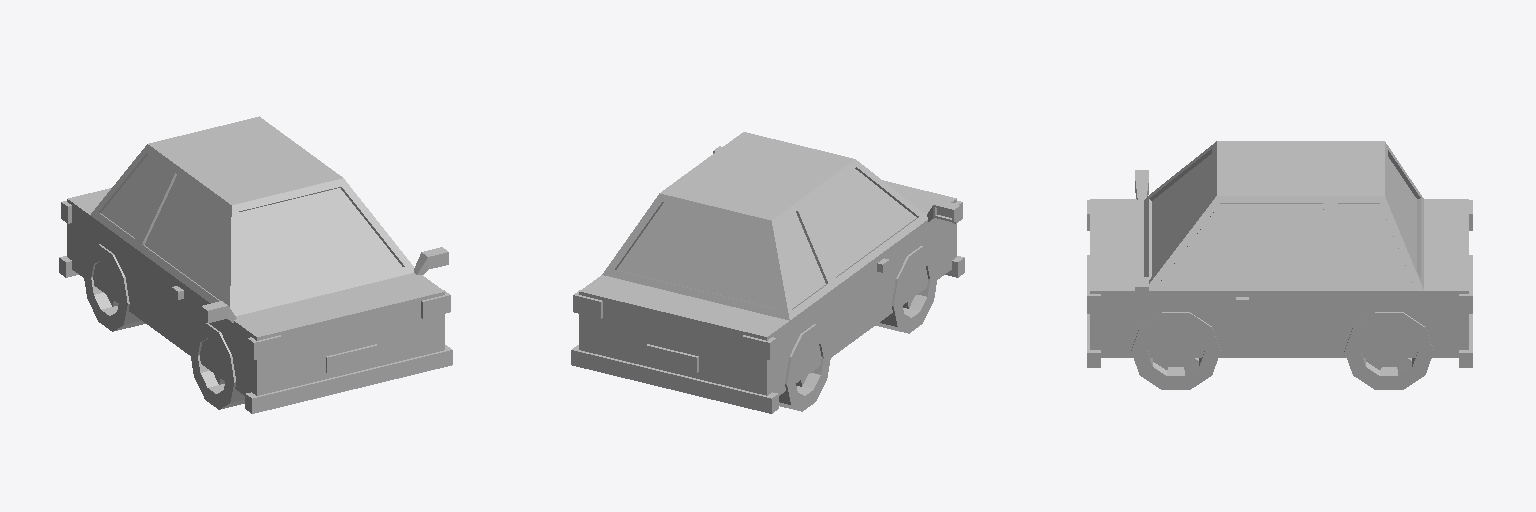
File: Coche2.obj
3 renders of one model, left to right at view 1: azimuth 30°, elevation 25°; view 2: azimuth 150°, elevation 25°; view 3: azimuth 270°, elevation 25°, orthographic.
Parts seen in each view (by area): view 1: Cube.008; view 2: Cube.008; view 3: Cube.008.
Boxes of the visible parts, x1,y1,x2,y2 form: Cube.008: [59, 116, 452, 413]; Cube.008: [571, 132, 964, 413]; Cube.008: [1087, 141, 1472, 389].
Size of the model in its own units: 2.57 by 1.78 by 3.56.